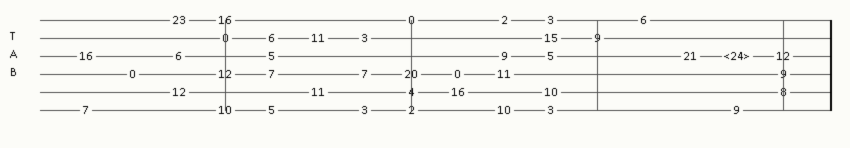0: (129, 68, 140, 80), (222, 32, 233, 44), (408, 14, 419, 26), (454, 68, 465, 80)
10: (218, 104, 236, 116), (497, 104, 515, 116), (544, 86, 562, 98)
11: (311, 32, 329, 44), (311, 86, 329, 98), (497, 68, 515, 80)
12: (172, 86, 190, 98), (218, 68, 236, 80), (776, 50, 794, 62)
15: (544, 32, 562, 44)
16: (79, 50, 97, 62), (218, 14, 236, 26), (451, 86, 469, 98)
2: (408, 104, 419, 116), (501, 14, 512, 26)
20: (404, 68, 422, 80)
21: (683, 50, 701, 62)
23: (172, 14, 190, 26)
3: (361, 32, 372, 44), (361, 104, 372, 116), (547, 14, 558, 26), (547, 104, 558, 116)
4: (408, 86, 419, 98)
5: (268, 50, 279, 62), (268, 104, 279, 116), (547, 50, 558, 62)
6: (175, 50, 186, 62), (268, 32, 279, 44), (640, 14, 651, 26)
7: (82, 104, 93, 116), (268, 68, 279, 80), (361, 68, 372, 80)
8: (780, 86, 791, 98)
9: (501, 50, 512, 62), (594, 32, 605, 44), (733, 104, 744, 116), (780, 68, 791, 80)
harmonic: (724, 50, 754, 62)
